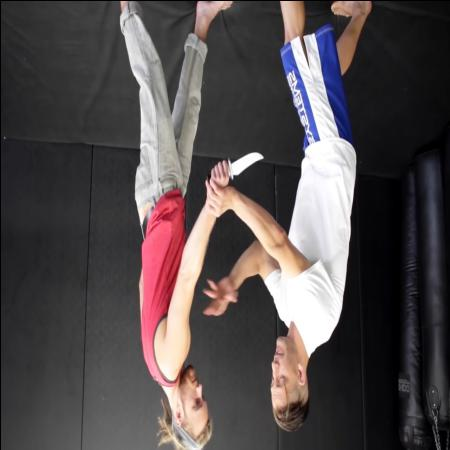long weapon: (203, 142, 267, 184)
